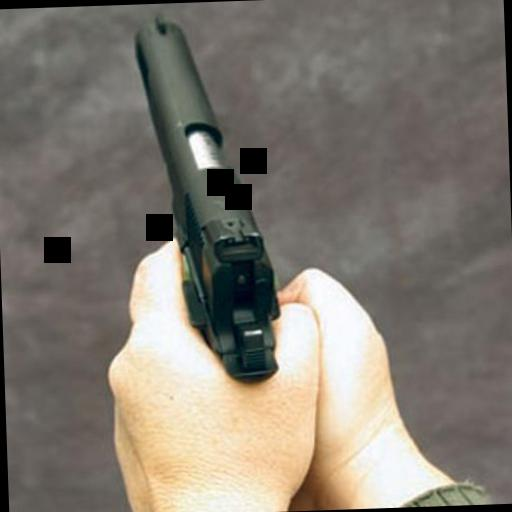Handgun: (120, 8, 280, 390)
